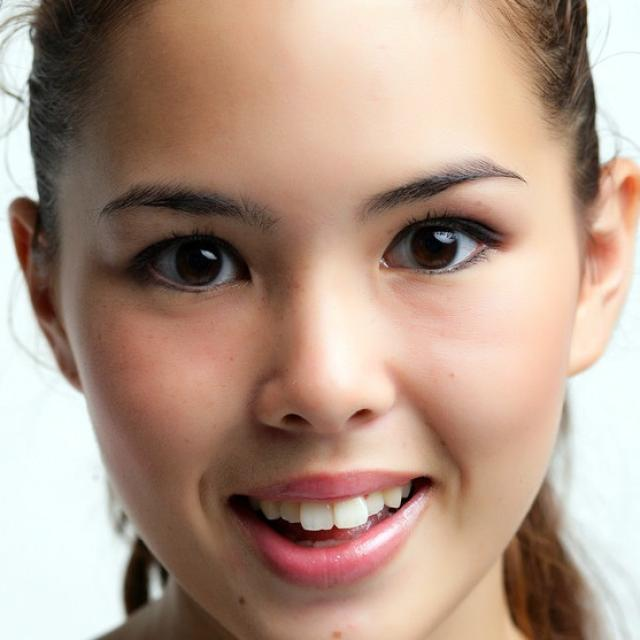Normal: (56, 5, 581, 639)
